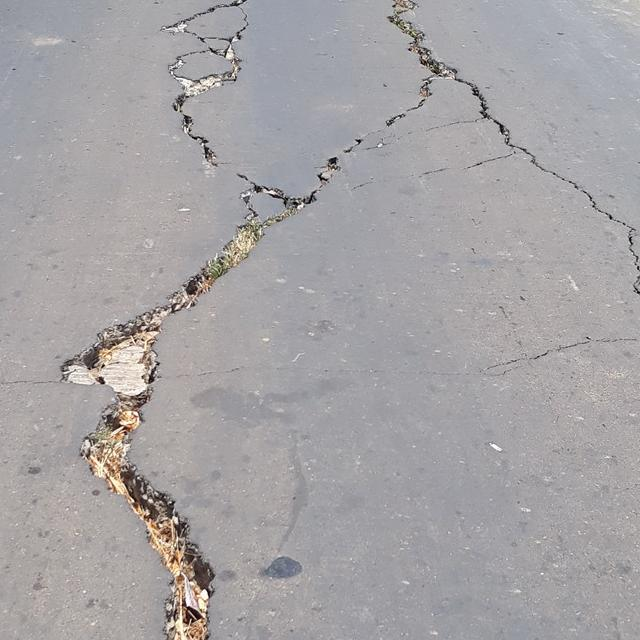retak_memanjang: (23, 0, 356, 640), (333, 0, 640, 390)
